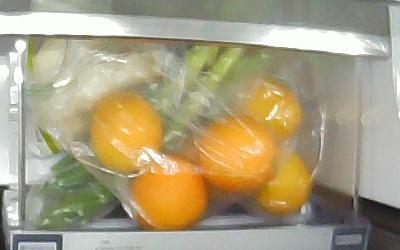orange_vinyl: (194, 115, 278, 193), (129, 156, 207, 228), (90, 96, 164, 171), (233, 75, 302, 140), (247, 150, 313, 217)
